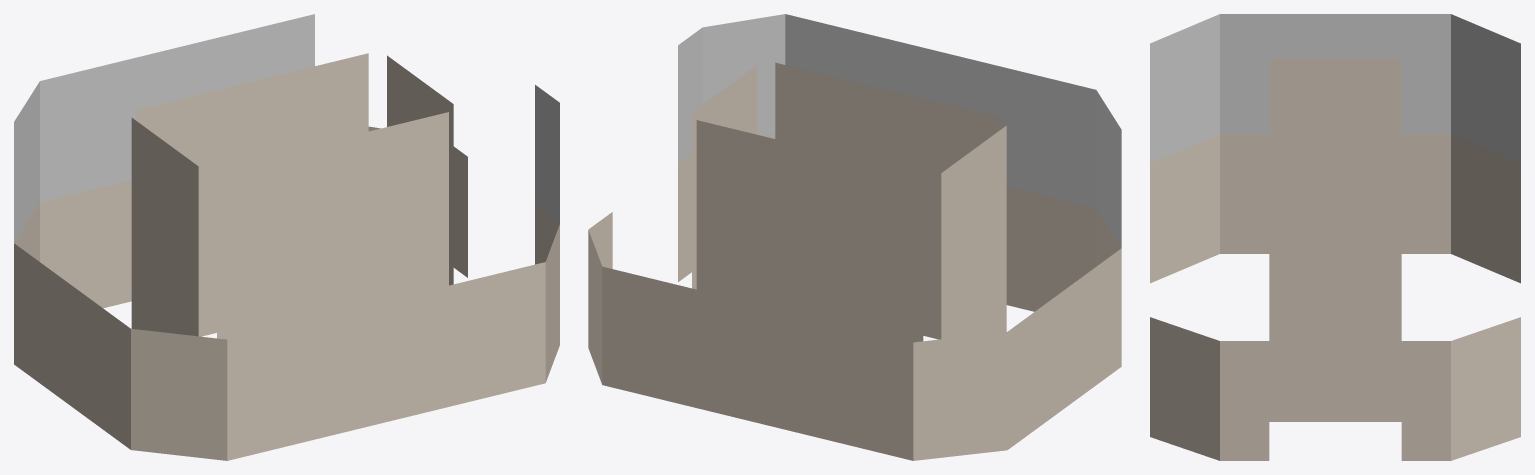
Rendered from LibraryStairsWalls-transformed.glb.
3 renders of one model, left to right at view 1: azimuth 30°, elevation 25°; view 2: azimuth 150°, elevation 25°; view 3: azimuth 270°, elevation 25°, orthographic. The views are drawn at different scales.
Parts seen in each view (by area): view 1: object1.005, object1.003; view 2: object1.005, object1.003; view 3: object1.005, object1.003.
Boxes of the visible parts, <box> form: object1.005: <box>14,53,559,460</box>; object1.003: <box>14,14,559,242</box>; object1.005: <box>588,62,1121,460</box>; object1.003: <box>678,14,1121,247</box>; object1.005: <box>1150,58,1520,460</box>; object1.003: <box>1150,14,1520,163</box>.
Bounding box in the file's own units: 3.7 × 2 × 2.8.
